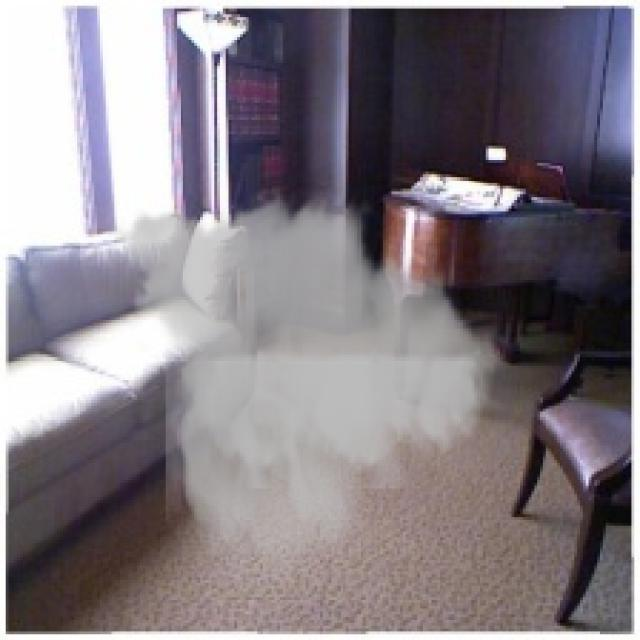Smoke: (102, 183, 514, 580)
